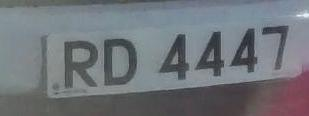4: (225, 21, 264, 82), (192, 23, 229, 84), (155, 28, 194, 85)
7: (259, 19, 297, 74)
D: (97, 33, 144, 91)
R: (57, 34, 105, 93)
